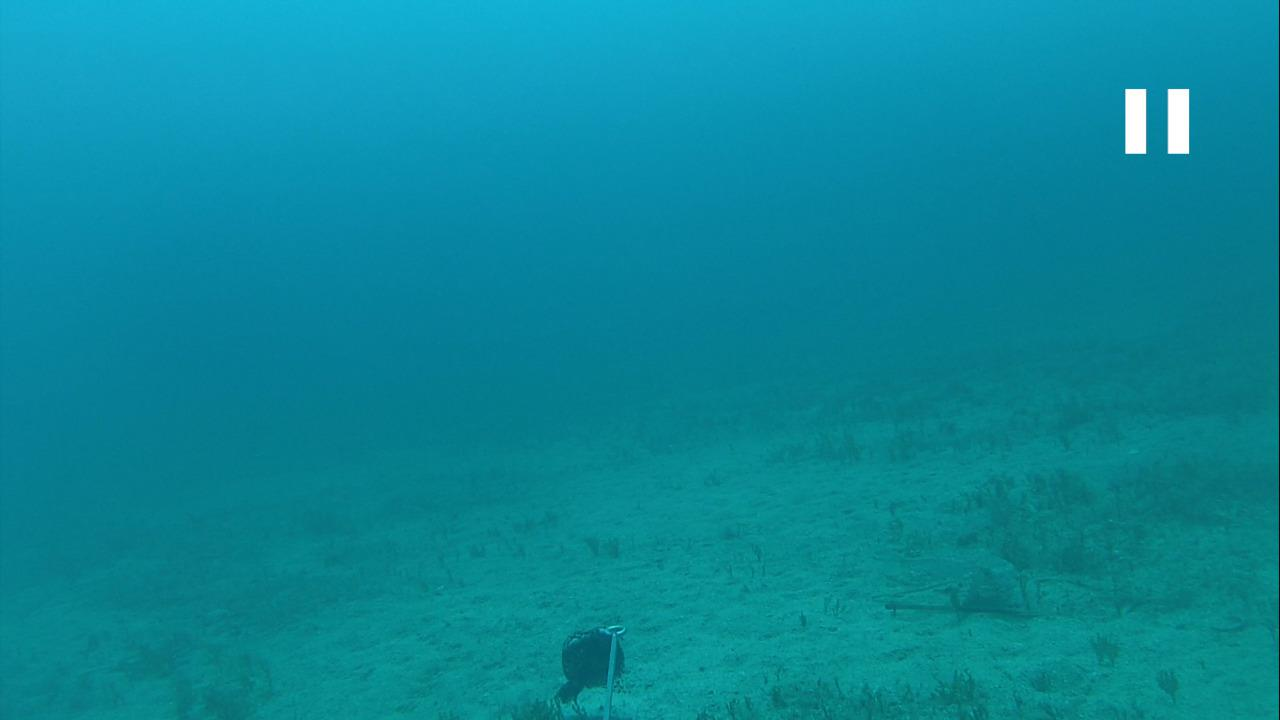dactylopterus: (828, 533, 1021, 628)
